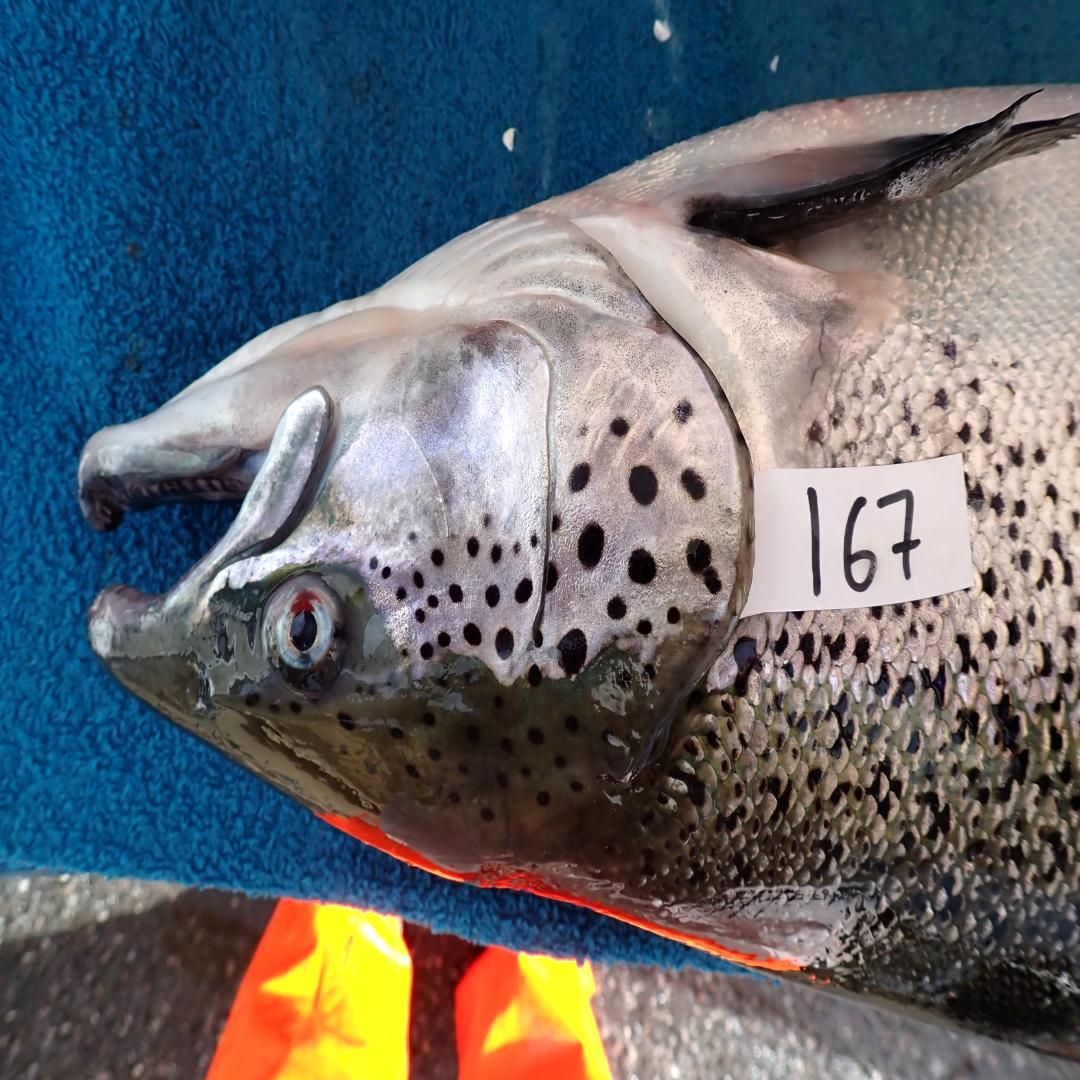roi: (336, 204, 755, 682)
